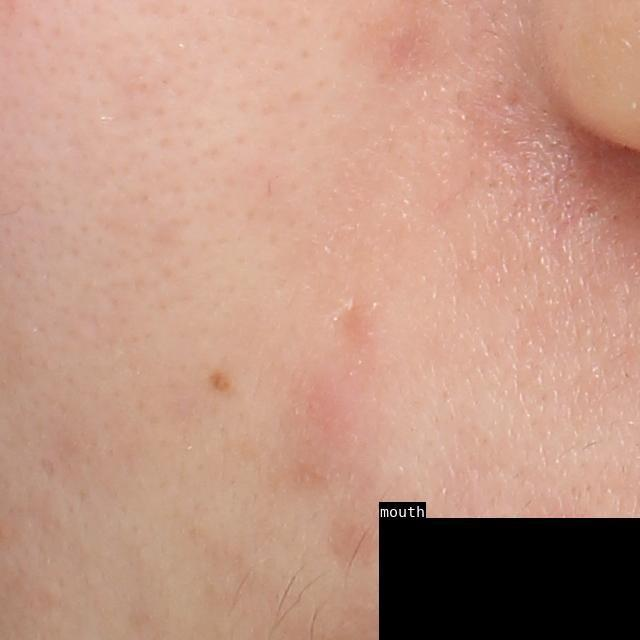nevus: (210, 369, 231, 392)
